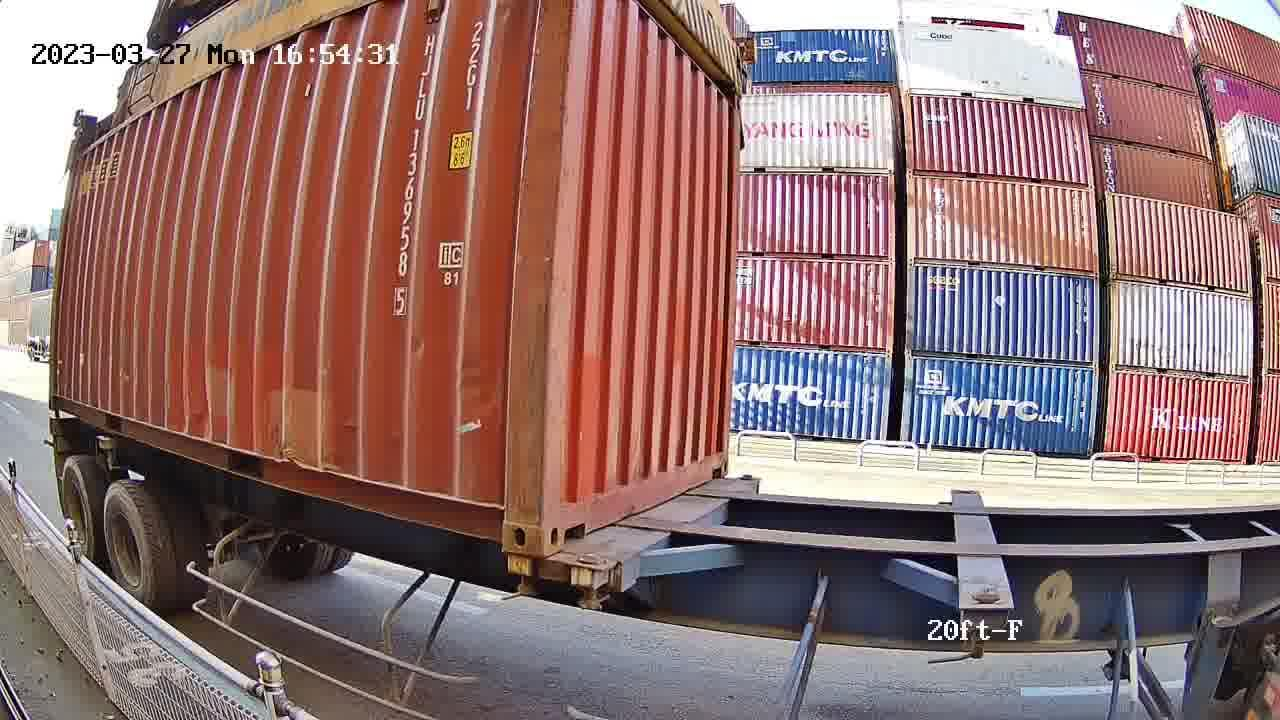Chassis: (570, 476, 759, 571)
Cone: (571, 553, 618, 612), (505, 555, 536, 597)
Hole_L: (541, 470, 590, 557)
Hole_R: (466, 473, 543, 556), (705, 439, 730, 483)
Tire: (104, 485, 153, 608), (62, 458, 97, 571)
